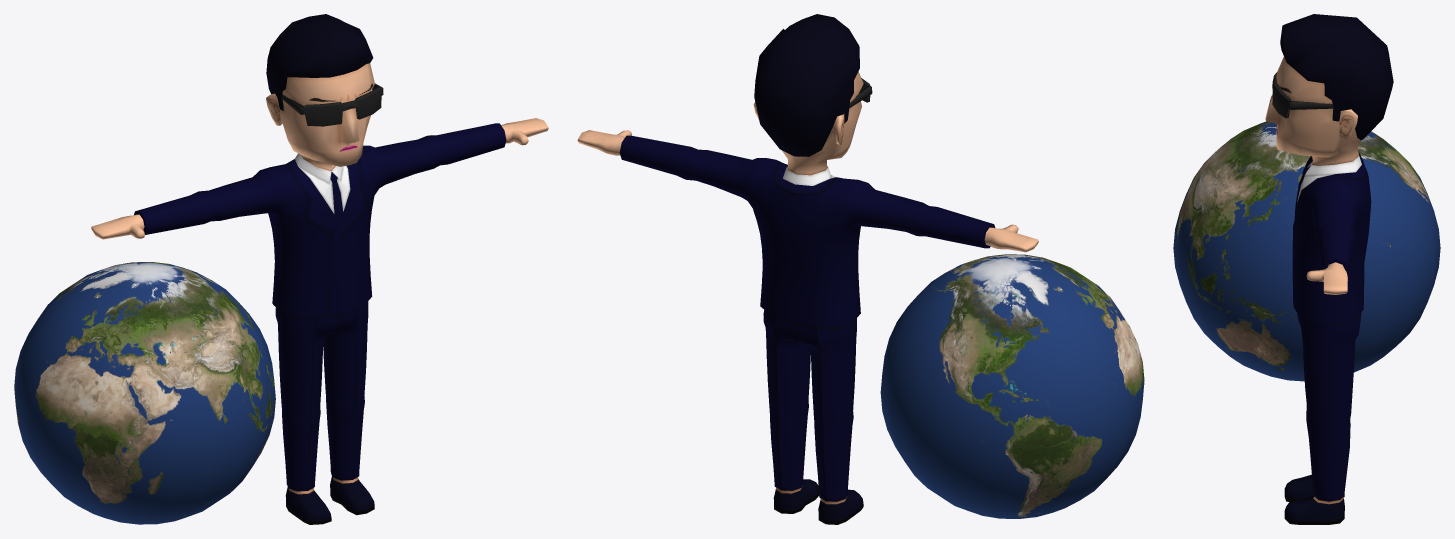
Rendered from onlyModelNoneExtensions.obj.
The picture shows the model from 3 angles, left to right: view 1: azimuth 30°, elevation 25°; view 2: azimuth 150°, elevation 25°; view 3: azimuth 270°, elevation 25°; orthographic projection.
Visible parts, largest first — view 1: py, pSphere1; view 2: py, pSphere1; view 3: pSphere1, py.
Boxes of the visible parts, x1,y1,x2,y2 form: py: [91, 14, 548, 524]; pSphere1: [14, 262, 275, 524]; py: [577, 14, 1038, 524]; pSphere1: [880, 254, 1144, 518]; pSphere1: [1173, 121, 1440, 381]; py: [1265, 14, 1393, 524].
Size of the model in its own units: 27.78 by 24.22 by 12.
Materials: 2 (2 with a texture image).
